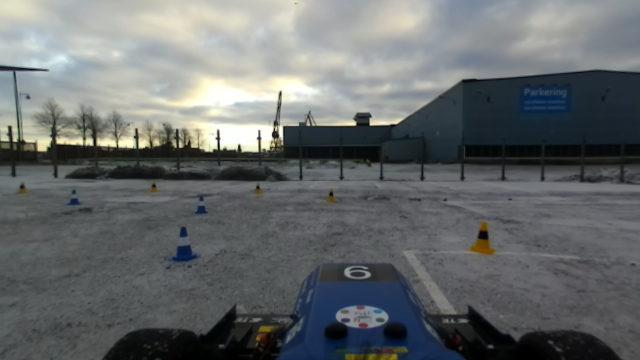blue: (167, 227, 200, 264), (194, 194, 208, 216)
yellow: (469, 220, 496, 254)
